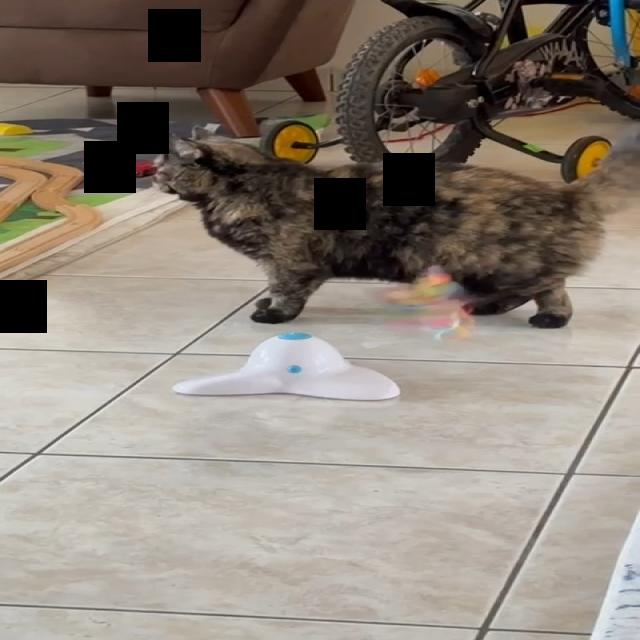authorized: (148, 125, 616, 328)
